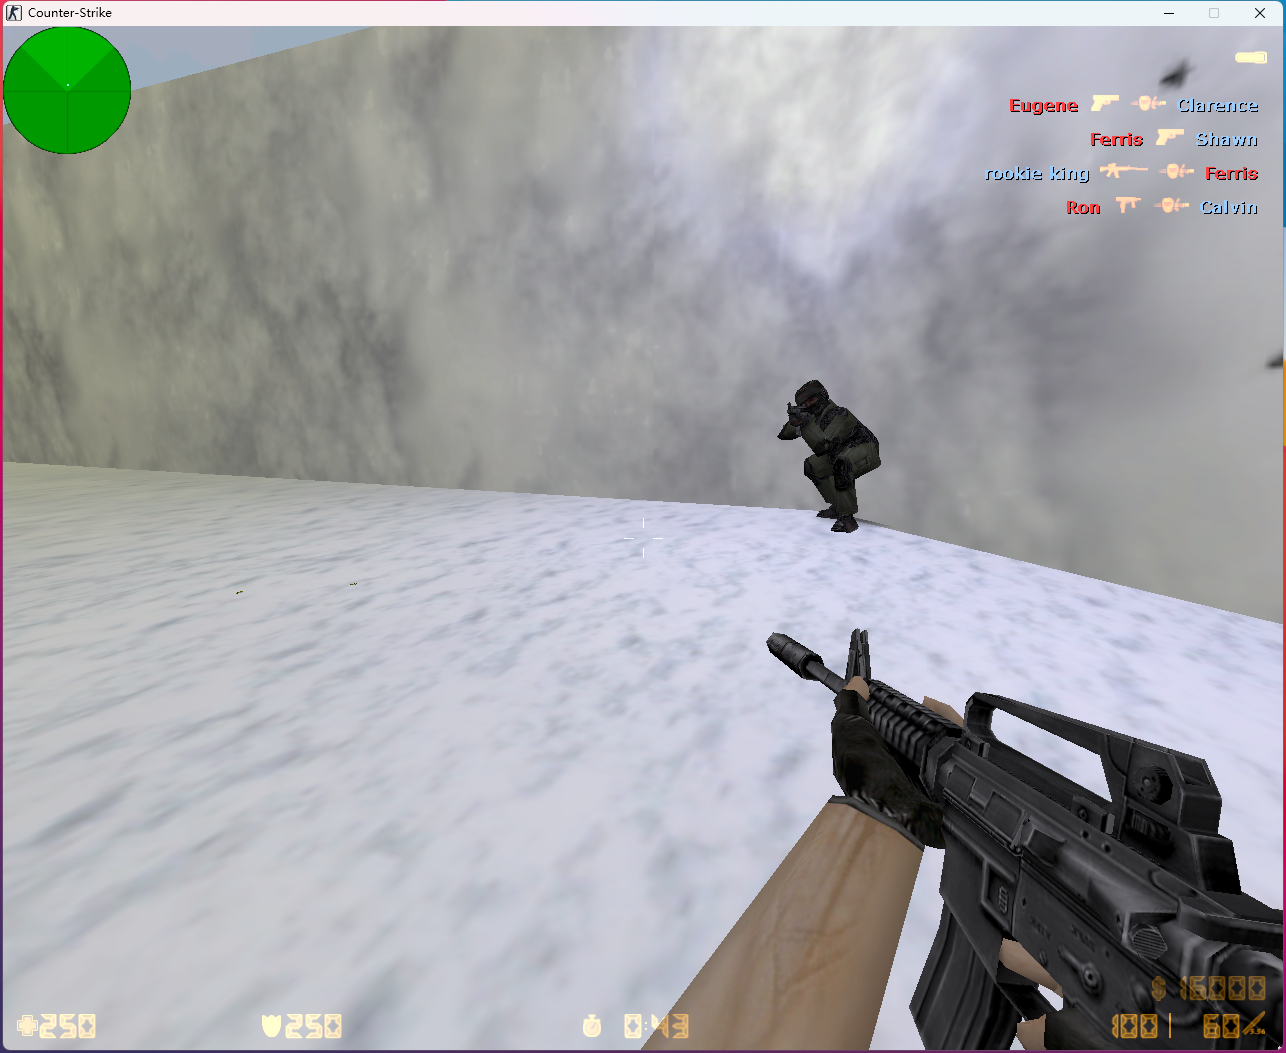C: (772, 367, 879, 536)
